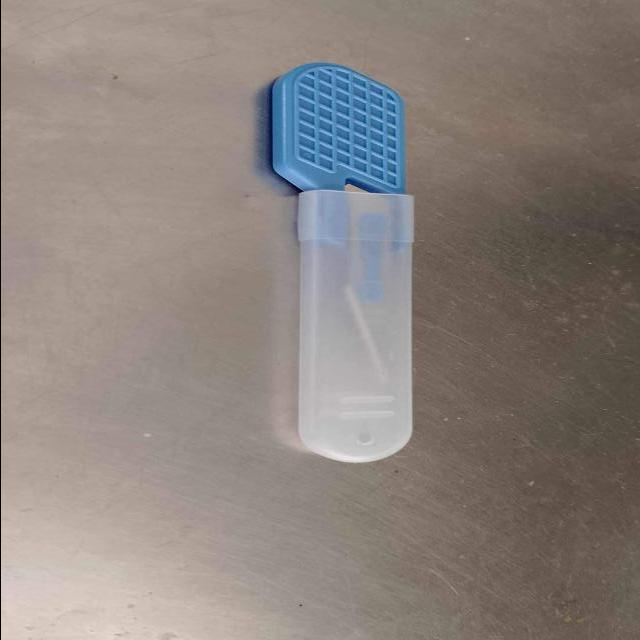Sharps: (269, 61, 416, 464)
